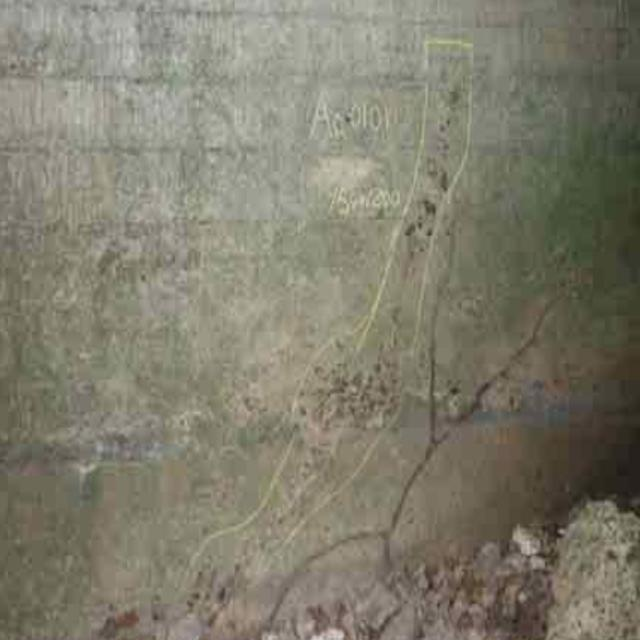spalling: (144, 502, 639, 634), (382, 34, 522, 354), (267, 358, 372, 486)
